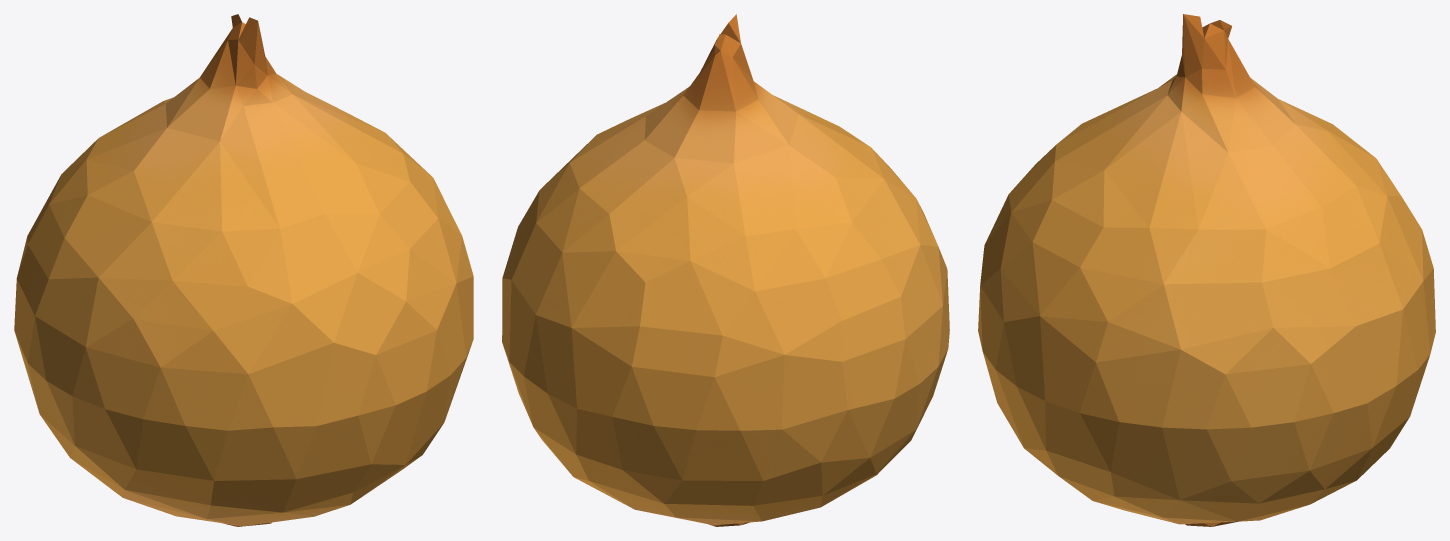
Rendered from Onion.fbx.
The picture shows the model from 3 angles, left to right: view 1: azimuth 30°, elevation 25°; view 2: azimuth 150°, elevation 25°; view 3: azimuth 270°, elevation 25°; orthographic projection. The views are drawn at different scales.
Parts seen in each view (by area): view 1: Onyun; view 2: Onyun; view 3: Onyun.
Boxes of the visible parts, bbox=[...] form: Onyun: bbox=[14, 14, 473, 526]; Onyun: bbox=[502, 14, 949, 526]; Onyun: bbox=[978, 14, 1435, 526].
Size of the model in its own units: 206 by 249 by 206.
